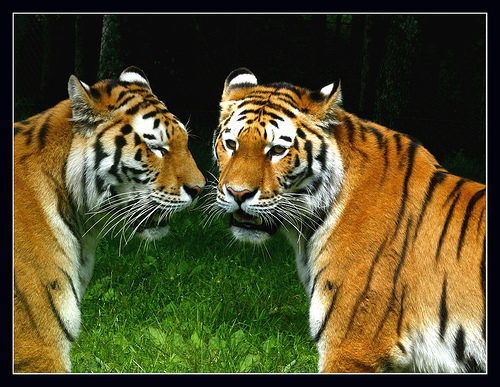Tigre: (211, 61, 480, 369), (17, 73, 186, 364)
